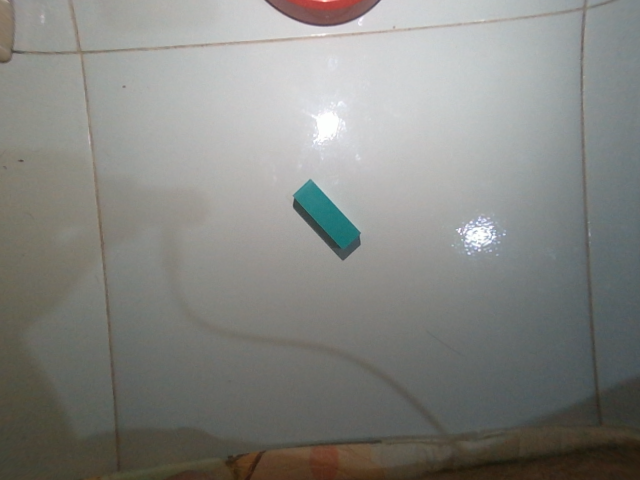Balok-Hijau: (291, 180, 362, 251)
